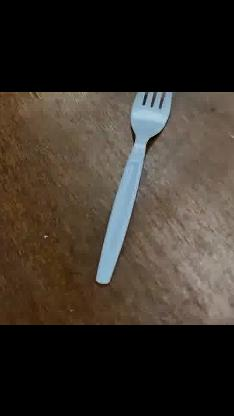Others: (95, 91, 173, 285)
